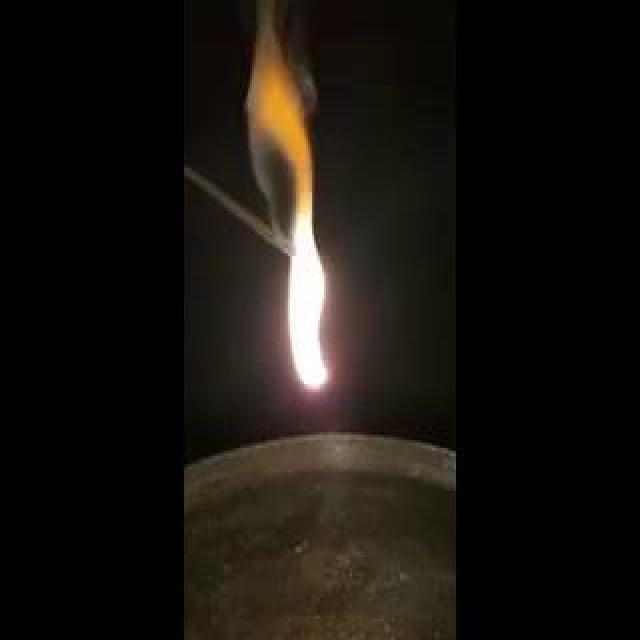Fire: (84, 214, 301, 328)
